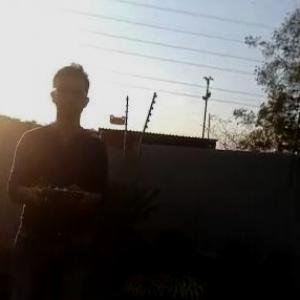follow: (2, 49, 114, 299)
